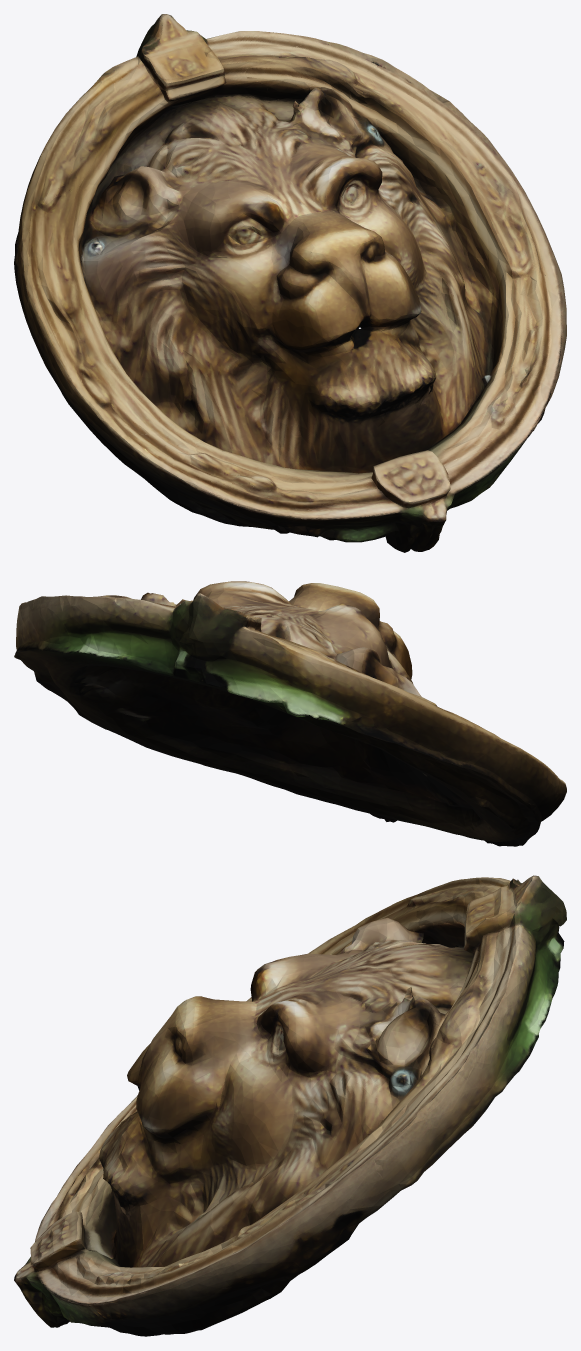
3 renders of one model, top to bottom at view 1: azimuth 30°, elevation 25°; view 2: azimuth 150°, elevation 25°; view 3: azimuth 270°, elevation 25°, orthographic. The views are drawn at different scales.
Visible parts, largest first — view 1: world; view 2: world; view 3: world.
Boxes of the visible parts, <box> form: world: <box>14,14,566,552</box>; world: <box>14,581,566,846</box>; world: <box>14,875,566,1336</box>.
Size of the model in its own units: 0.8711 by 0.6552 by 0.7653.
1 material, 1 textured.
